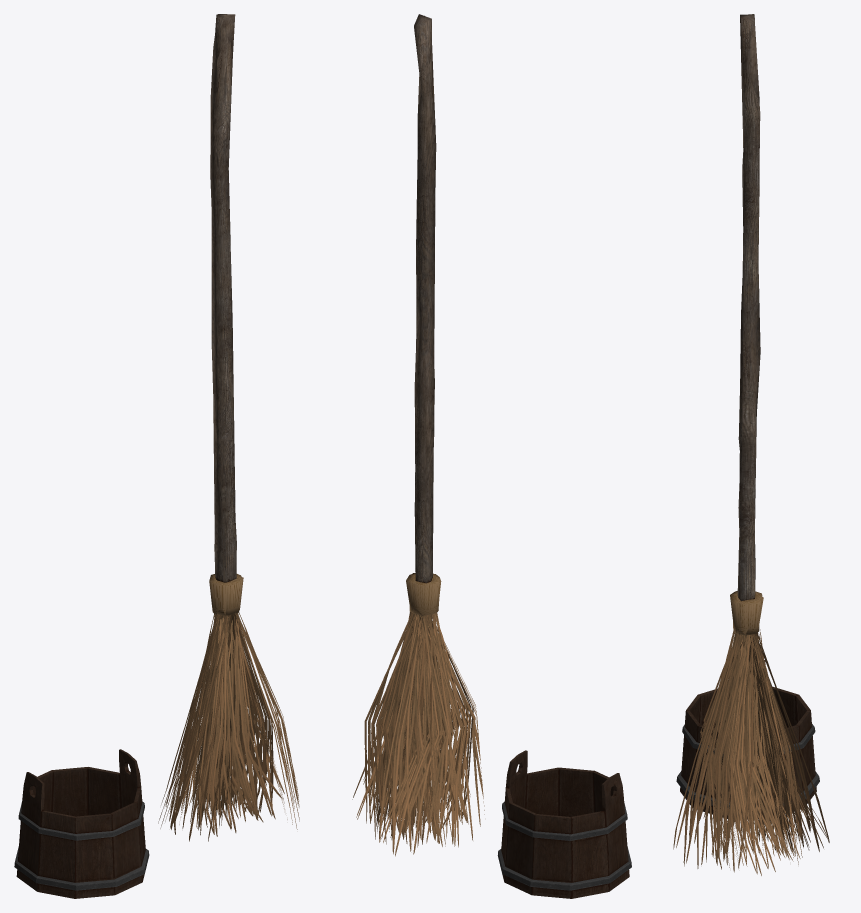
Rendered from BroomStick_1.fbx.
3 views of the same model, side by side, from view 1: azimuth 30°, elevation 25°; view 2: azimuth 150°, elevation 25°; view 3: azimuth 270°, elevation 25° (orthographic). The views are drawn at different scales.
Parts seen in each view (by area): view 1: Circle.001, Circle.004, Circle.002, Circle.005, Circle, Circle.003; view 2: Circle.001, Circle.004, Circle.005, Circle.002, Circle, Circle.003; view 3: Circle.005, Circle.002, Circle.001, Circle.004, Circle.003.
Part boxes in pixels (<box>): Circle.001: <box>158,14,298,841</box>; Circle.004: <box>16,750,145,898</box>; Circle.002: <box>181,14,299,834</box>; Circle.005: <box>166,14,287,841</box>; Circle: <box>15,749,148,885</box>; Circle.003: <box>14,761,149,890</box>; Circle.001: <box>352,14,483,856</box>; Circle.004: <box>501,751,629,898</box>; Circle.005: <box>363,15,470,853</box>; Circle.002: <box>368,14,484,851</box>; Circle: <box>498,750,631,885</box>; Circle.003: <box>497,761,631,890</box>; Circle.005: <box>676,14,829,873</box>; Circle.002: <box>673,14,829,873</box>; Circle.001: <box>700,14,827,875</box>; Circle.004: <box>680,686,816,818</box>; Circle.003: <box>676,727,819,808</box>.
Size of the model in its own units: 288 by 797 by 159.
